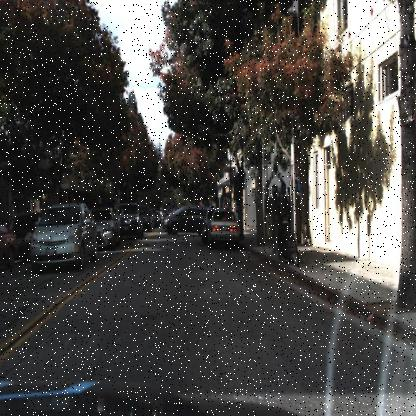car: (25, 199, 100, 274), (204, 208, 242, 250), (161, 201, 202, 237), (91, 204, 120, 251), (114, 198, 143, 244), (0, 213, 16, 266), (200, 205, 214, 241)
